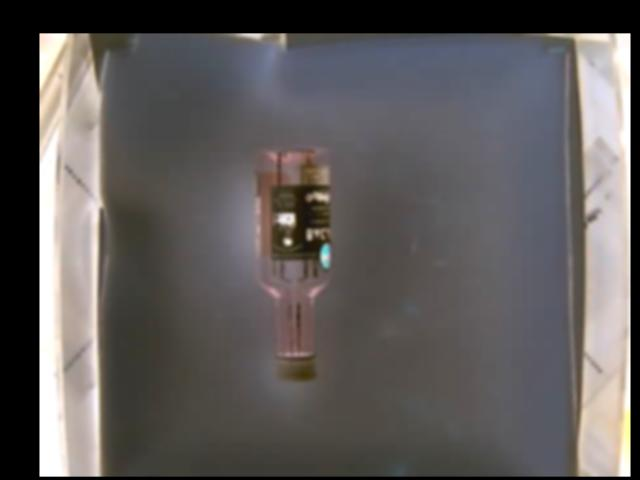Bottle: (255, 146, 331, 383)
